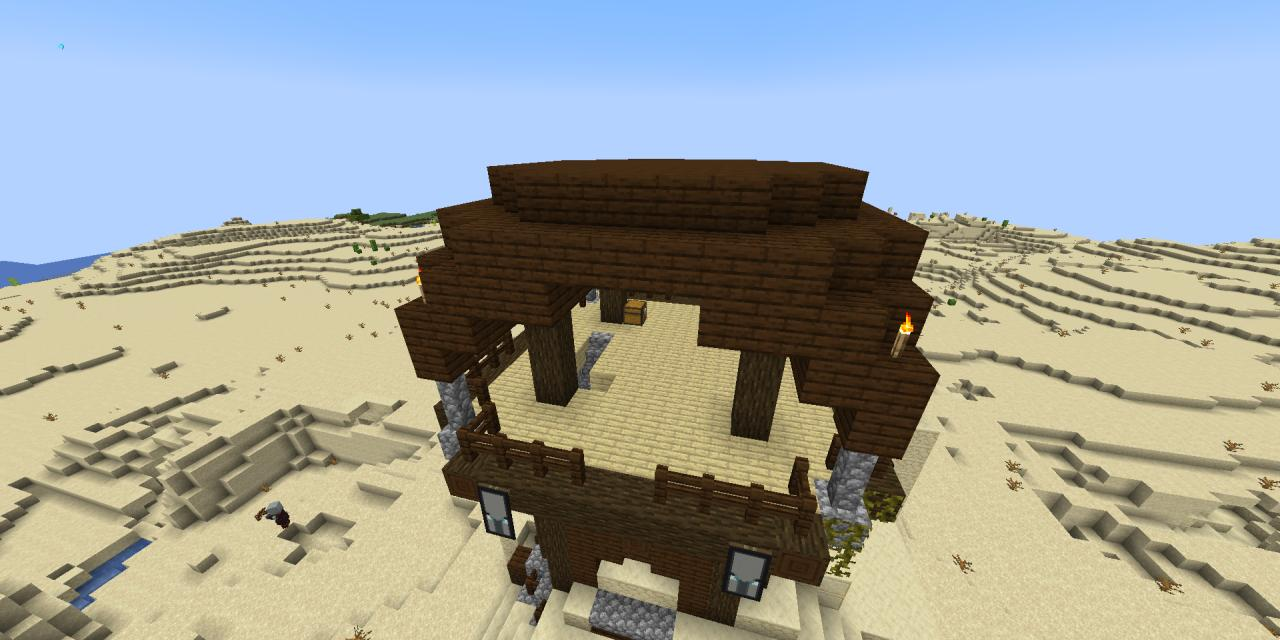pillager outpost: (383, 145, 946, 640)
